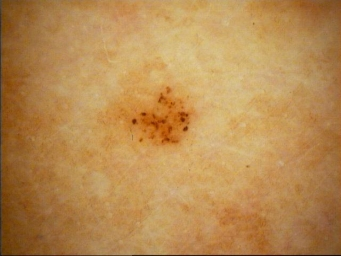melanoma: (130, 87, 191, 145)
